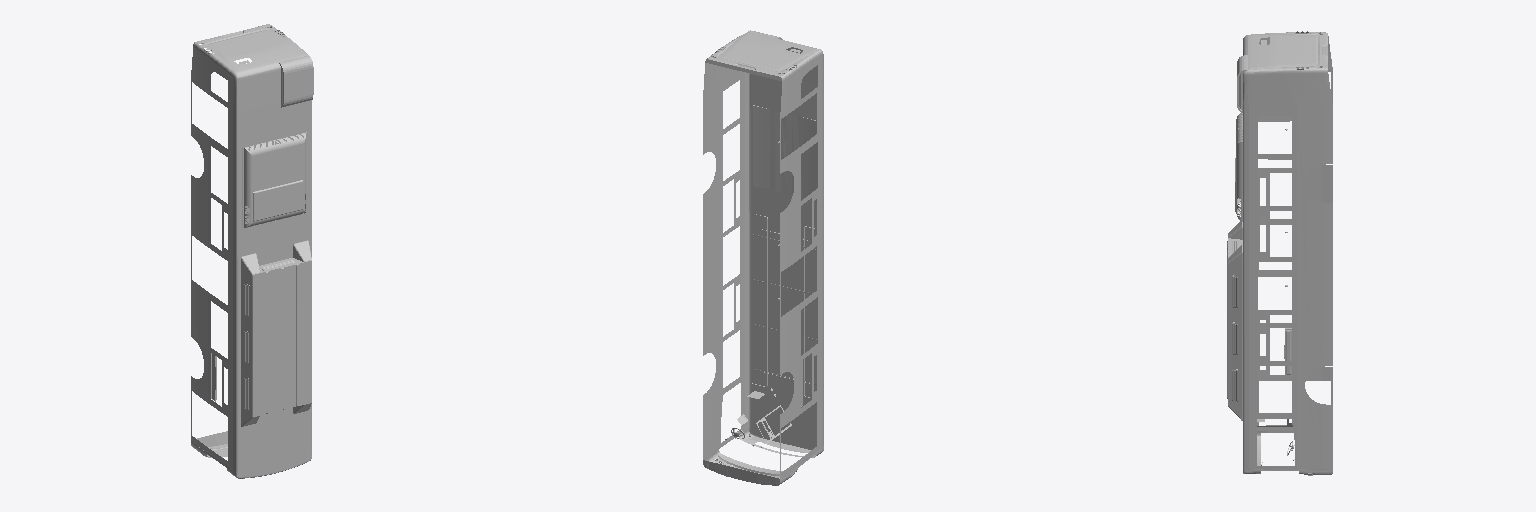
File: body_liaz6.obj
3 renders of one model, left to right at view 1: azimuth 30°, elevation 25°; view 2: azimuth 150°, elevation 25°; view 3: azimuth 270°, elevation 25°, orthographic.
Visible parts, largest first — view 1: Liaz1_hheh4; view 2: Liaz1_hheh4; view 3: Liaz1_hheh4.
Part boxes in pixels (x1,y1,x2,y2): Liaz1_hheh4: (191,24,313,478); Liaz1_hheh4: (703,30,823,485); Liaz1_hheh4: (1227,31,1332,475).
Size of the model in its own units: 2.51 by 12.55 by 2.92.